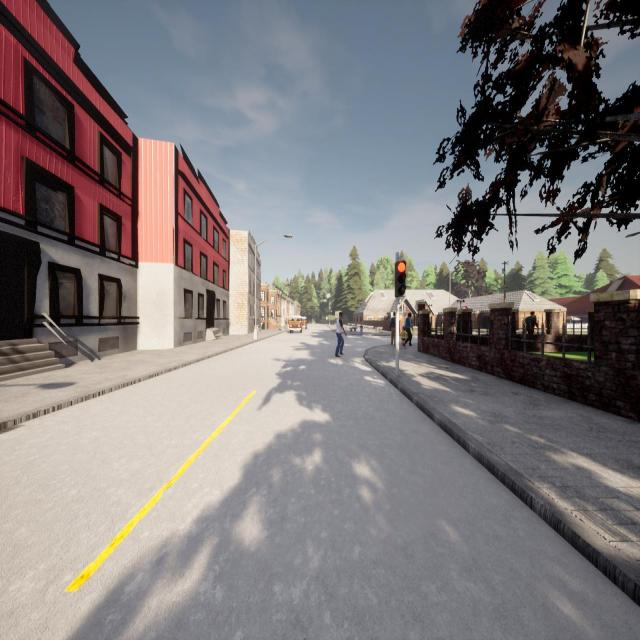Pedestrian: (335, 312, 347, 358), (403, 312, 414, 348), (524, 310, 538, 337), (389, 310, 396, 348), (400, 326, 406, 347), (360, 323, 363, 338)
Traffic_Signs: (461, 306, 468, 310), (325, 316, 328, 321)
Vehicle: (288, 315, 302, 333), (302, 317, 308, 329)
traffic_light: (395, 260, 406, 297)
